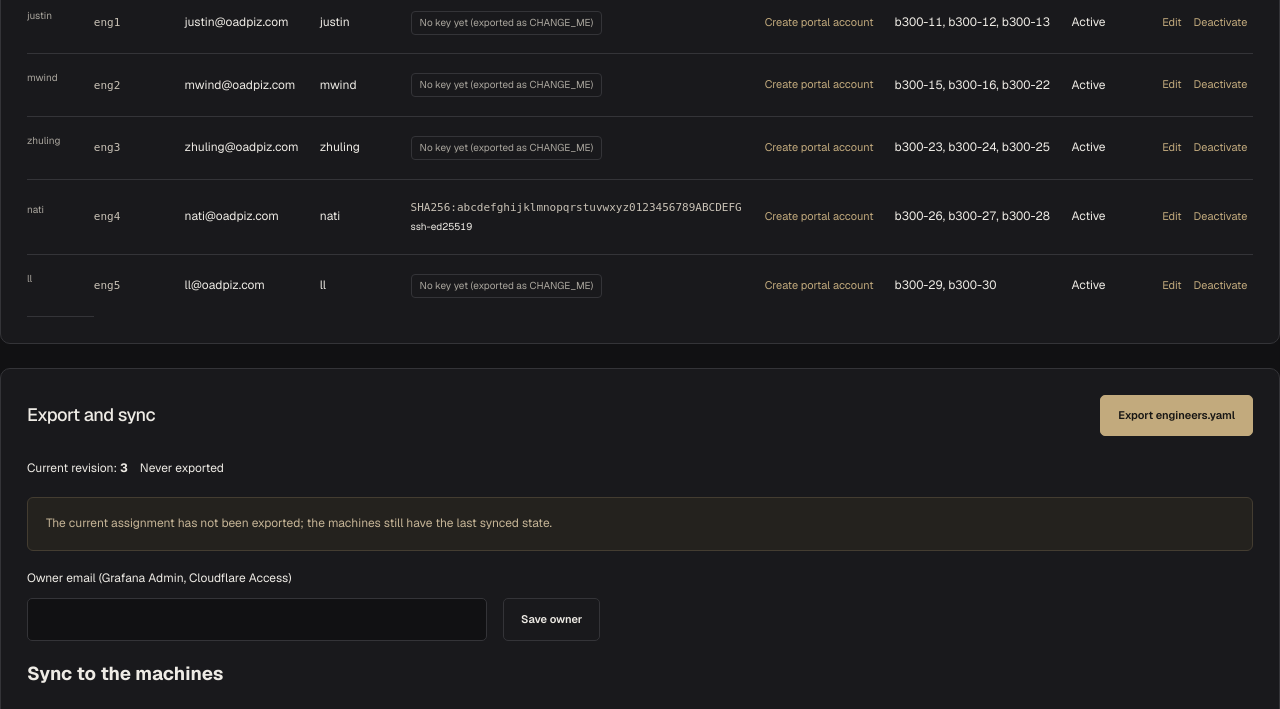
Scenario: admin node allocation section › downloads engineers.yaml, shows the export warnings and the runbook commands
(page scrolled)
Expected: the text "Current revision: 3 Never exported" is shown, [27,460,224,476]
Step 1. Click the button "Export engineers.yaml" → (1177, 415), box [1100,395,1253,436]
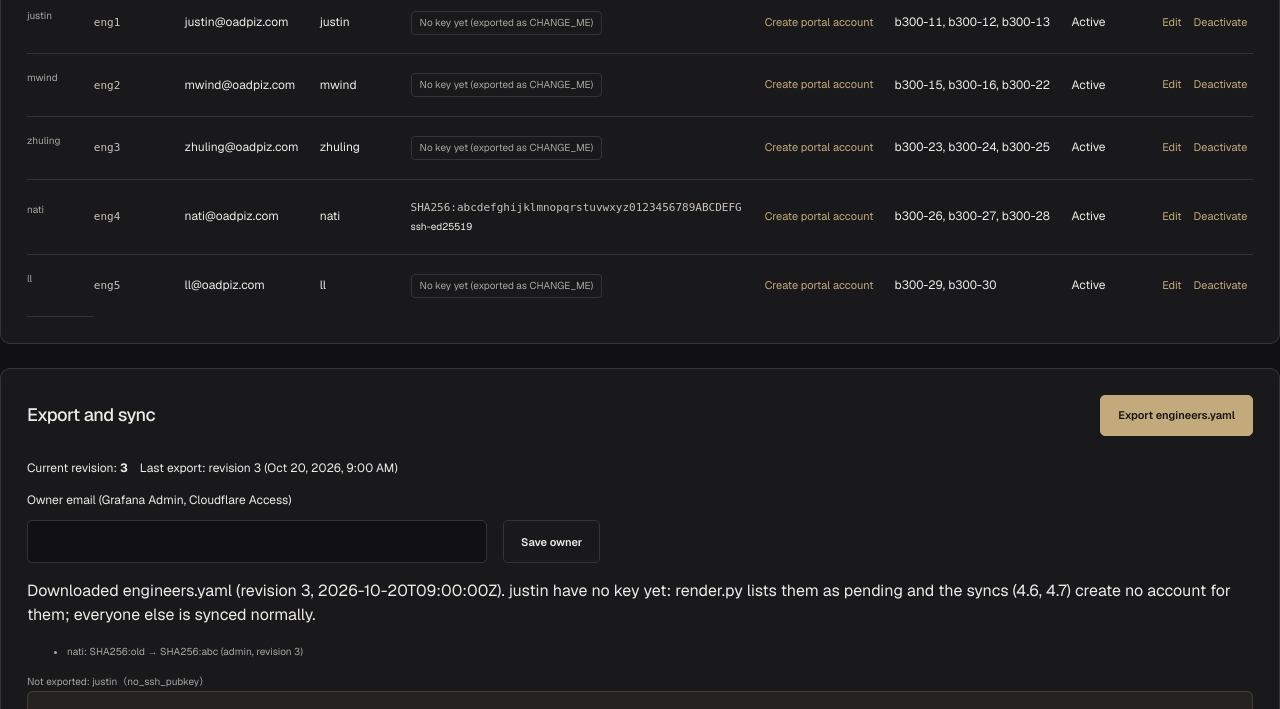
Now the text "Last export: revision 3" is shown, box [140,460,398,476]
Now the text "justin have no key yet: render.py lists them as pending" is shown, box [27,580,1231,625]
Now the list item "nati: SHA256:old → SHA256:abc (admin, revision 3)" is shown, box [67,645,303,658]
